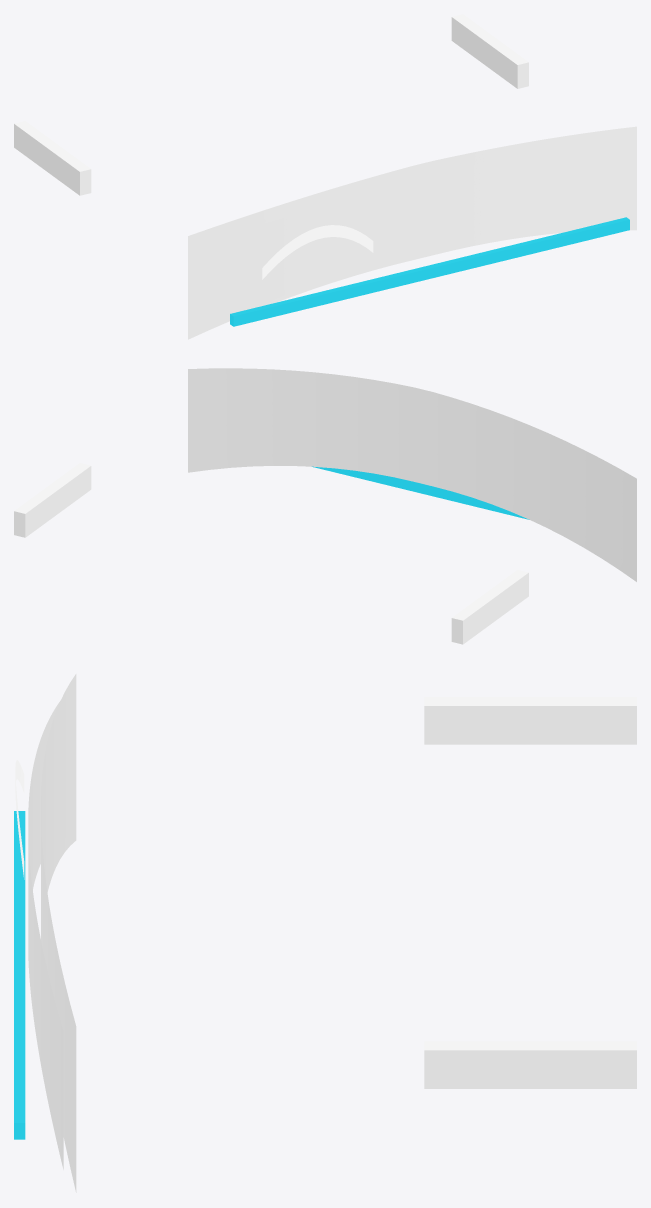
Rendered from trait-eyes-modern-vr-skull.glb.
3 views of the same model, one above another, from view 1: azimuth 30°, elevation 25°; view 2: azimuth 150°, elevation 25°; view 3: azimuth 270°, elevation 25° (orthographic). The views are drawn at different scales.
Parts seen in each view (by area): view 1: trait_eye_visor_lens, trait_eye_visor_frame, trait_eye_visor_glow, trait_eye_visor_strap_L, trait_eye_visor_strap_R, trait_eye_visor_gloss; view 2: trait_eye_visor_frame, trait_eye_visor_strap_R, trait_eye_visor_strap_L, trait_eye_visor_glow; view 3: trait_eye_visor_strap_L, trait_eye_visor_strap_R, trait_eye_visor_frame, trait_eye_visor_lens, trait_eye_visor_glow.
Boxes of the visible parts, bbox=[...] form: trait_eye_visor_lens: bbox=[203, 141, 629, 330]; trait_eye_visor_frame: bbox=[188, 126, 636, 339]; trait_eye_visor_glow: bbox=[230, 217, 629, 326]; trait_eye_visor_strap_L: bbox=[14, 121, 91, 195]; trait_eye_visor_strap_R: bbox=[451, 14, 528, 88]; trait_eye_visor_gloss: bbox=[262, 225, 373, 279]; trait_eye_visor_frame: bbox=[188, 368, 636, 581]; trait_eye_visor_strap_R: bbox=[14, 463, 91, 537]; trait_eye_visor_strap_L: bbox=[451, 569, 528, 644]; trait_eye_visor_glow: bbox=[312, 466, 529, 519]; trait_eye_visor_strap_L: bbox=[424, 697, 636, 744]; trait_eye_visor_strap_R: bbox=[424, 1041, 636, 1088]; trait_eye_visor_frame: bbox=[41, 674, 76, 1192]; trait_eye_visor_lens: bbox=[28, 700, 63, 1169]; trait_eye_visor_glow: bbox=[14, 811, 25, 1139].
Bounding box in the file's own units: 1.18 × 0.3261 × 0.8794.
